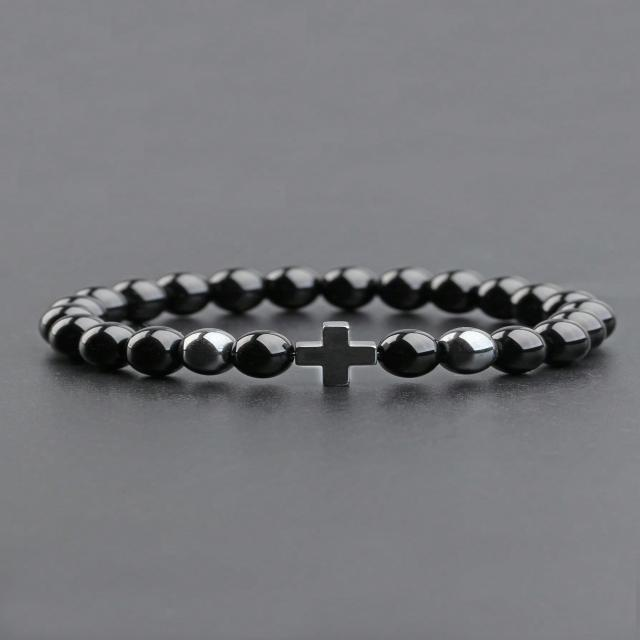bracelet: (0, 190, 640, 434)
